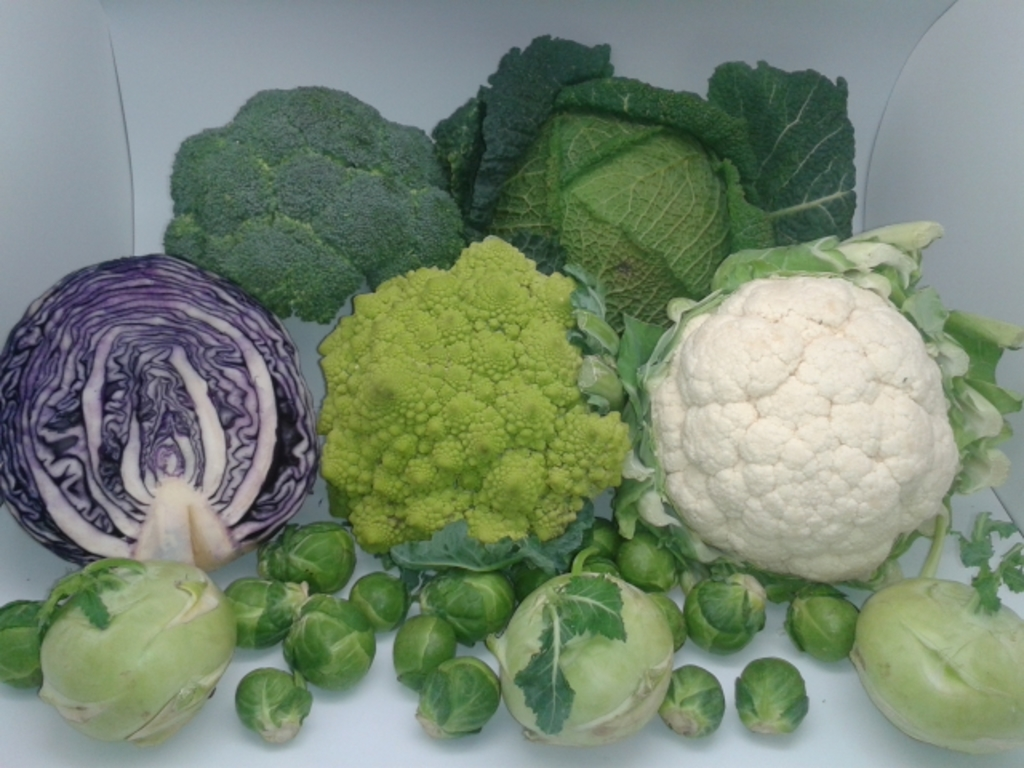Cabbage: (0, 34, 1023, 754)
